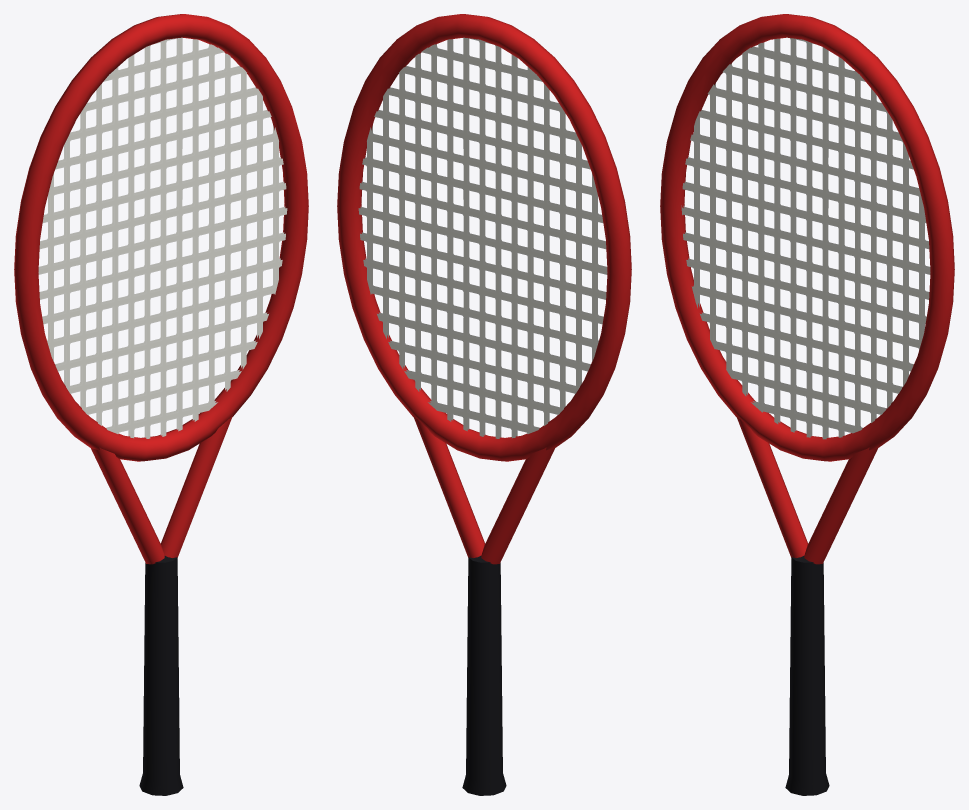
The model's file is Raqueta.obj.
The picture shows the model from 3 angles, left to right: view 1: azimuth 30°, elevation 25°; view 2: azimuth 150°, elevation 25°; view 3: azimuth 330°, elevation 25°; orthographic projection.
Parts seen in each view (by area): view 1: Raqueta; view 2: Raqueta; view 3: Raqueta.
Part boxes in pixels (x1=…): Raqueta: x1=14, y1=14, x2=308, y2=795; Raqueta: x1=337, y1=14, x2=631, y2=795; Raqueta: x1=660, y1=14, x2=954, y2=795.
Bounding box in the file's own units: 0.281 × 0.7075 × 0.0352.
1 material, 1 textured.
